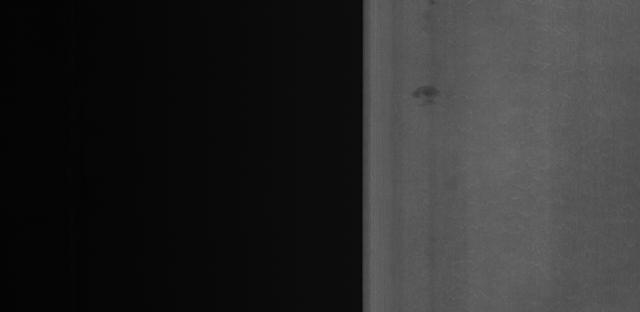oil_spot: (415, 79, 445, 110)
